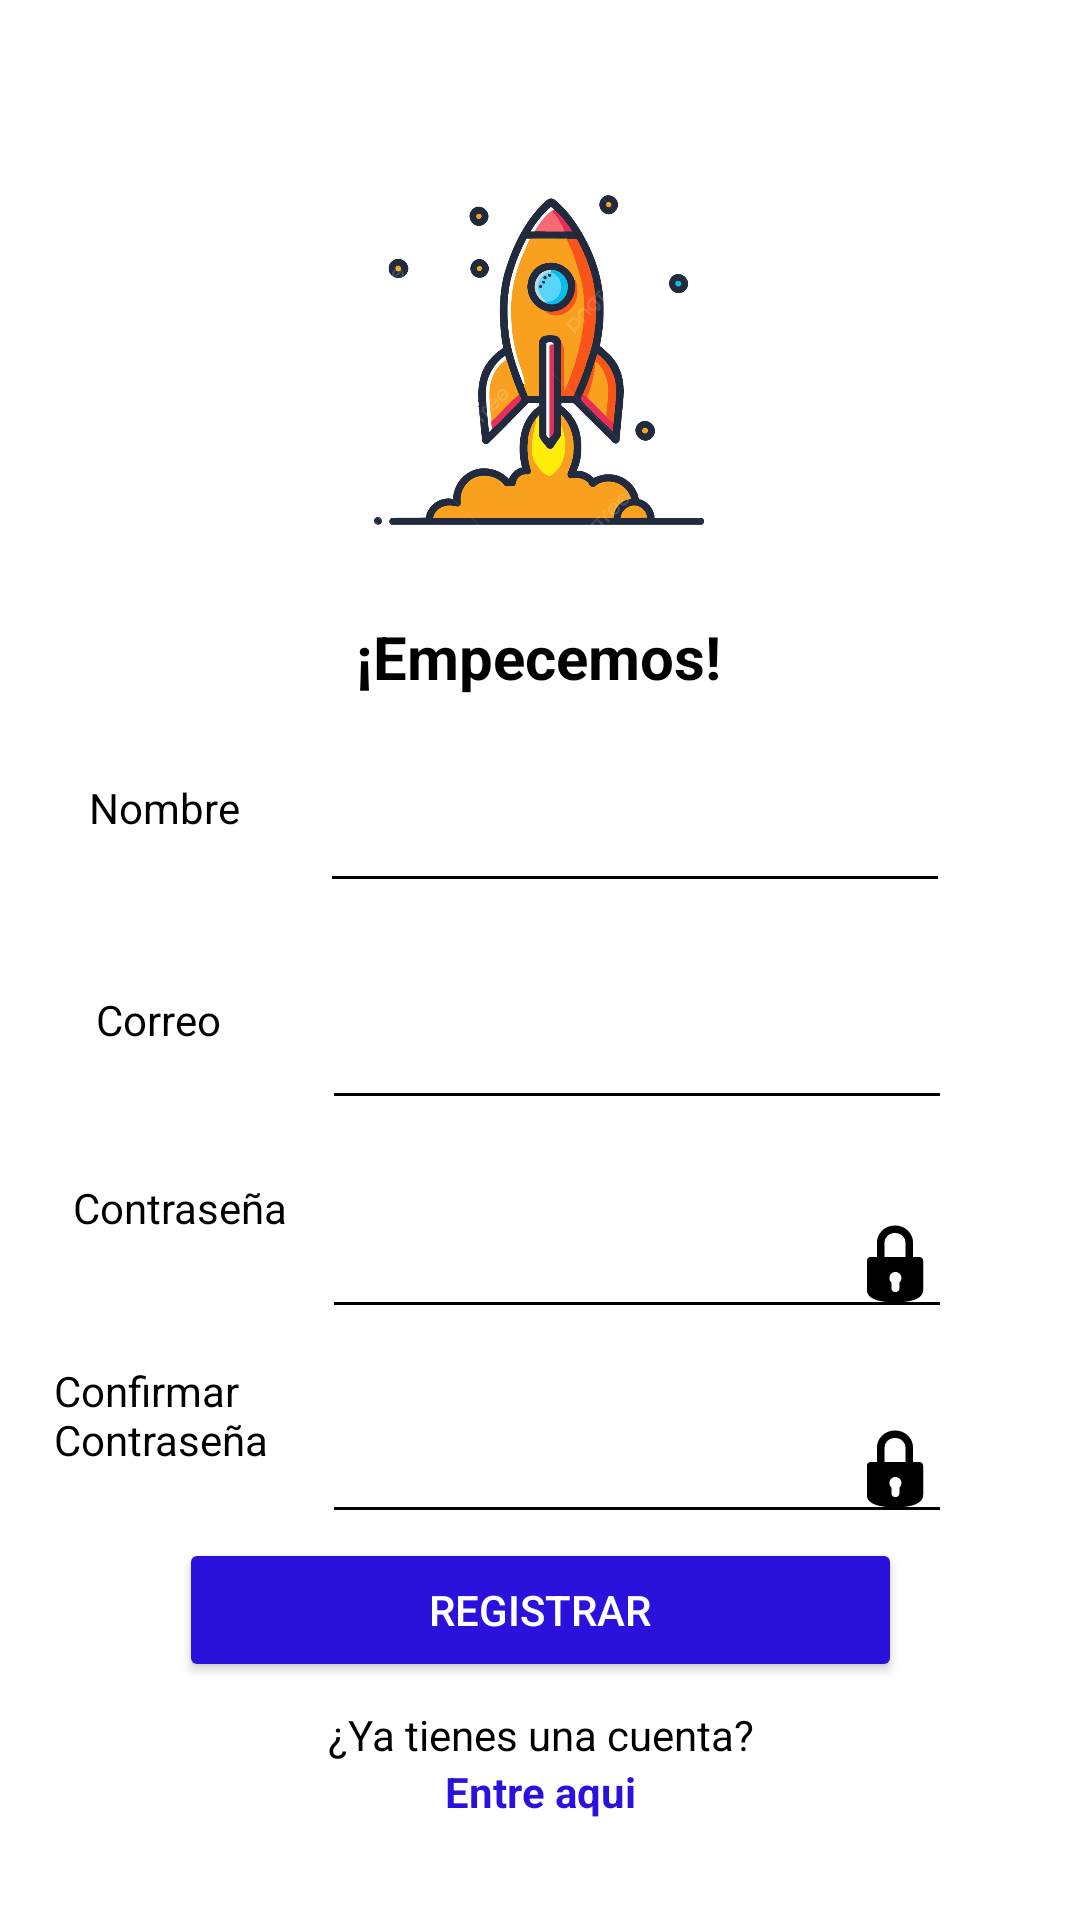

Named icons in this screenshot (1080x1920) and their bounding boxes, (x1, y1, x2, y2):
cohete: (374, 195, 704, 525)
